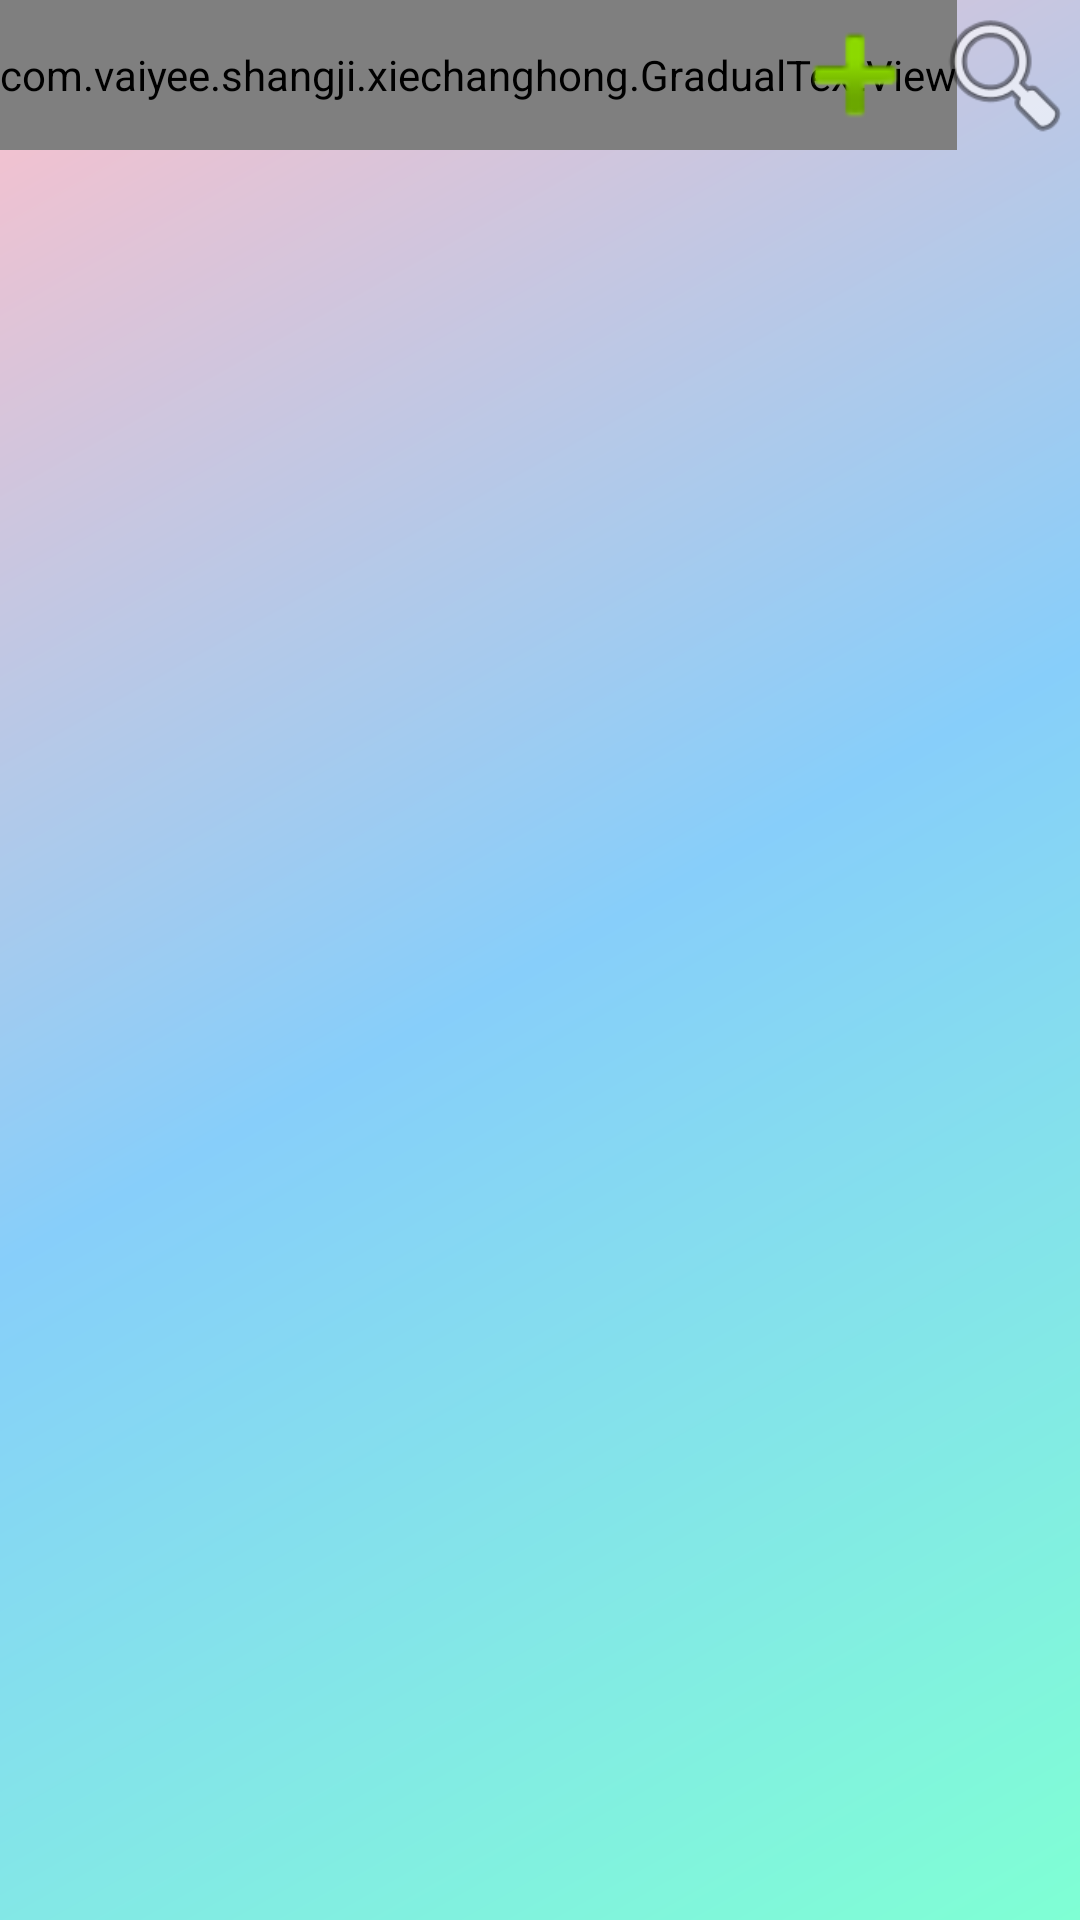

Icons on this 1080*1920 Android screen, each with the point to tap as (x,y):
search: (1005,75)
